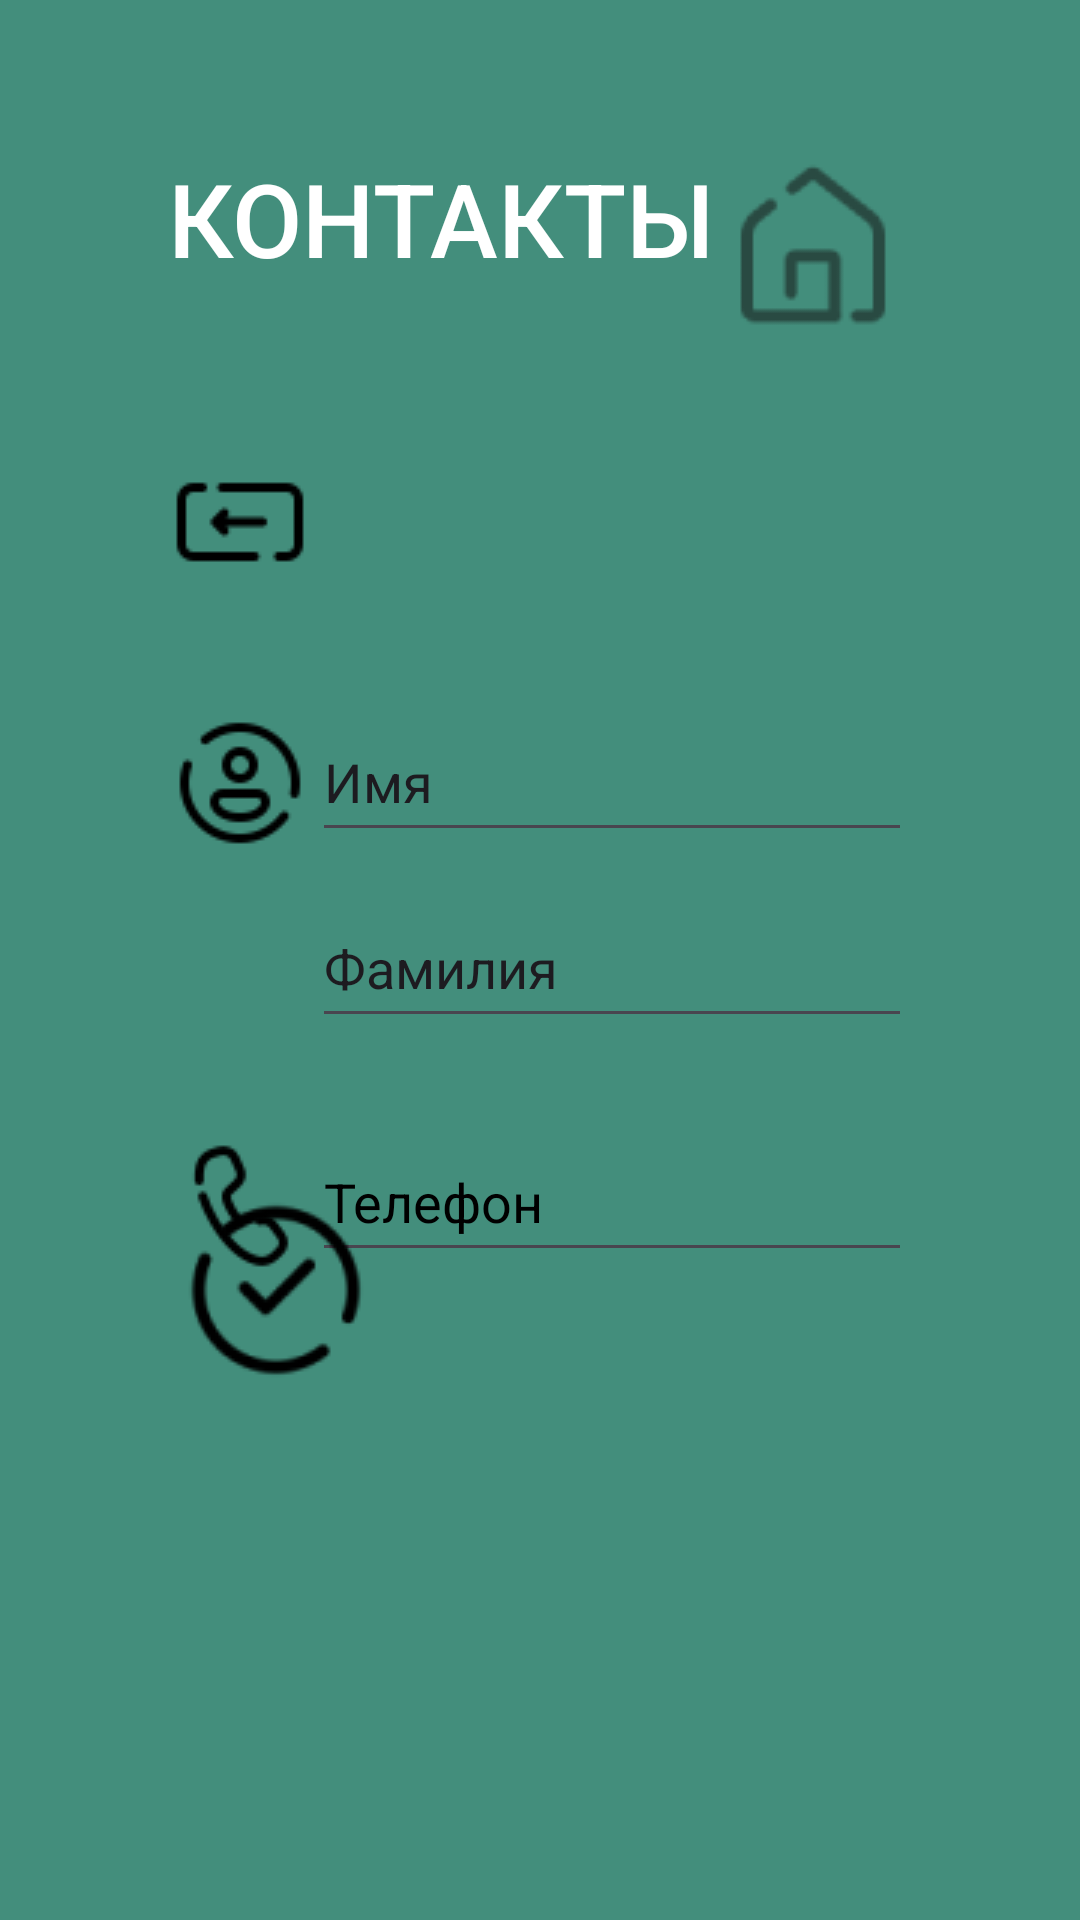

Icon click points for this 1080w x 1920h phone screenshot, format point (x, y):
backspace: point (240, 522)
home: point (813, 245)
